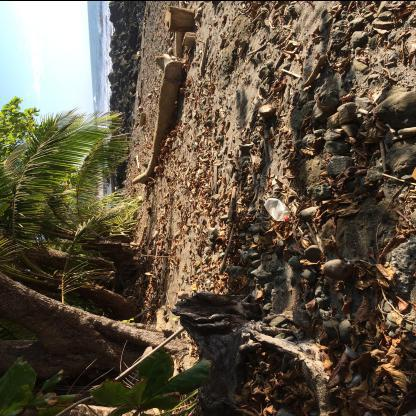plastik: (265, 198, 291, 222)
